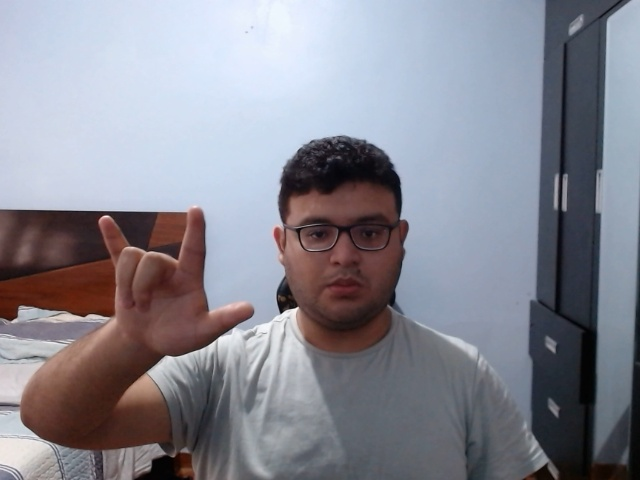I love you: (89, 203, 260, 356)
